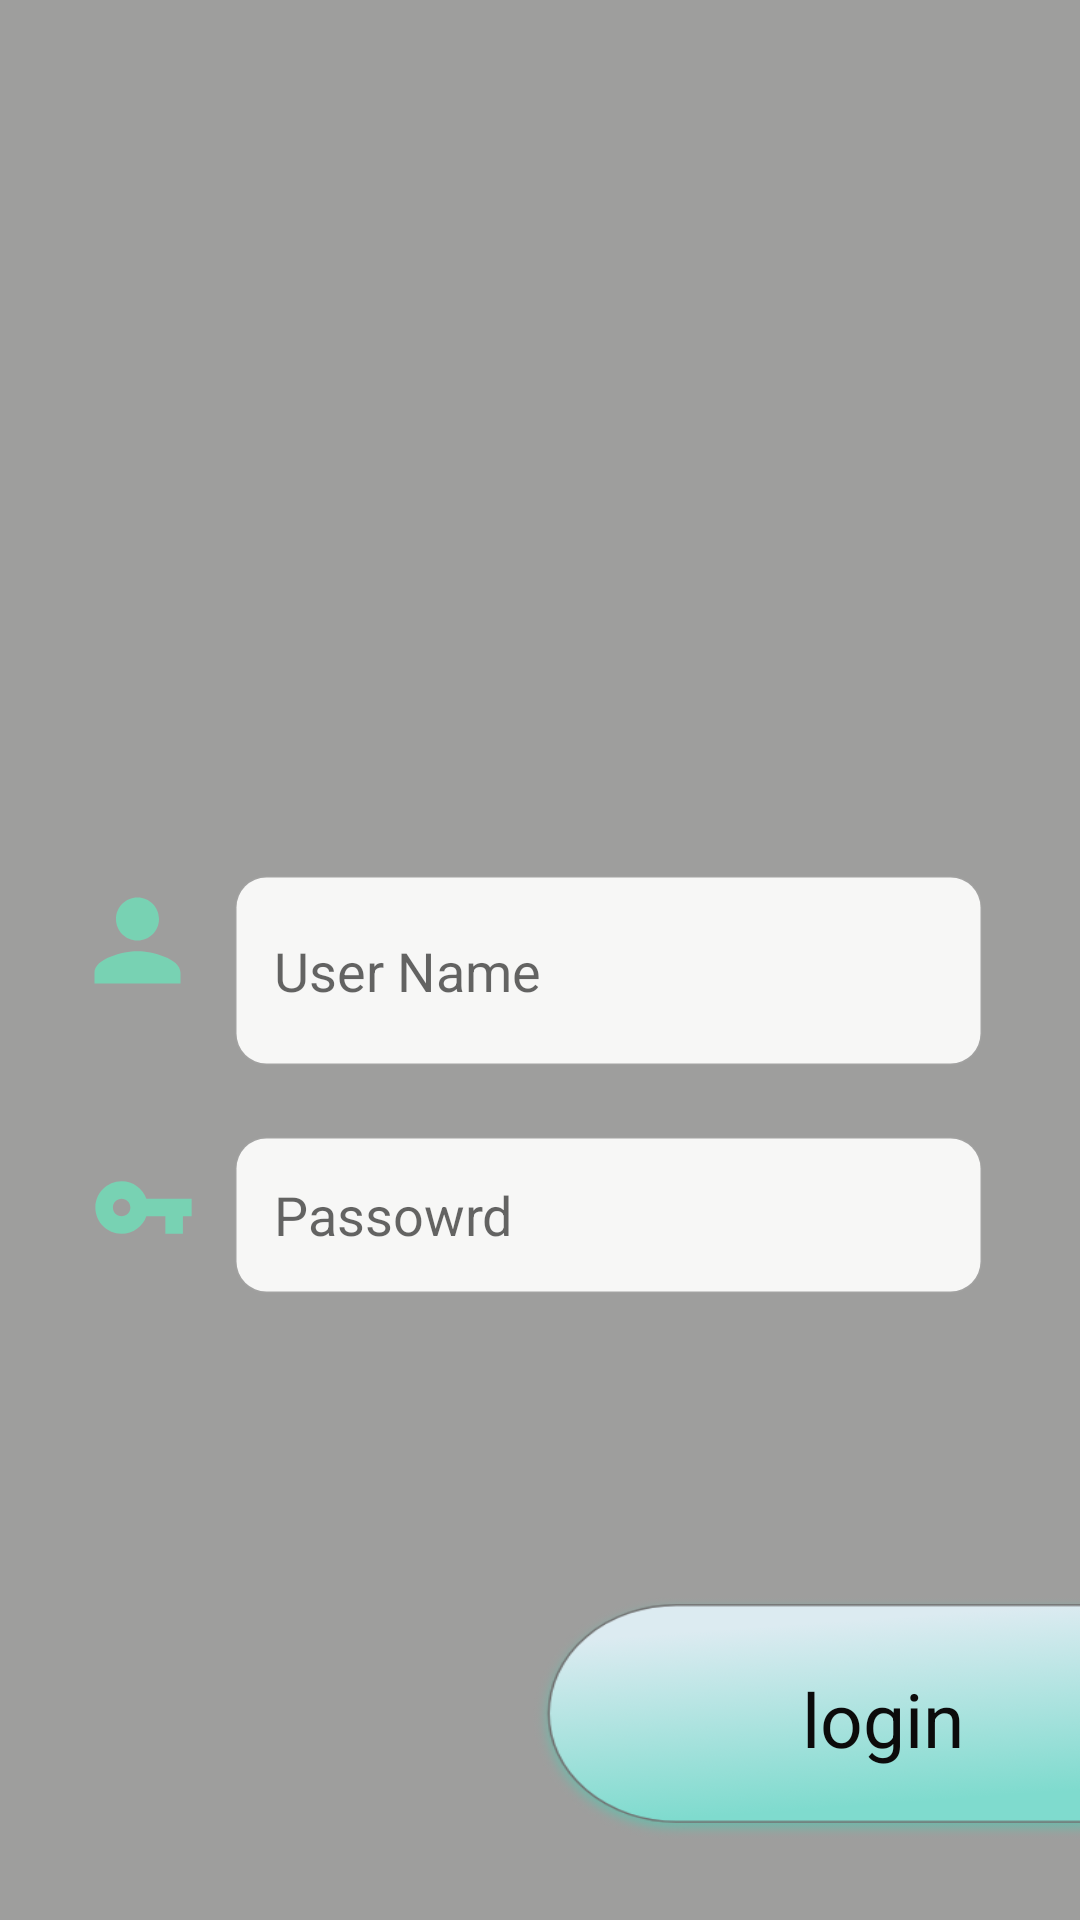

Icons on this 1080 × 1920 Android screen, each with the point to tap as (x=x, y=y):
person: (x=137, y=940)
vpn key: (x=143, y=1207)
